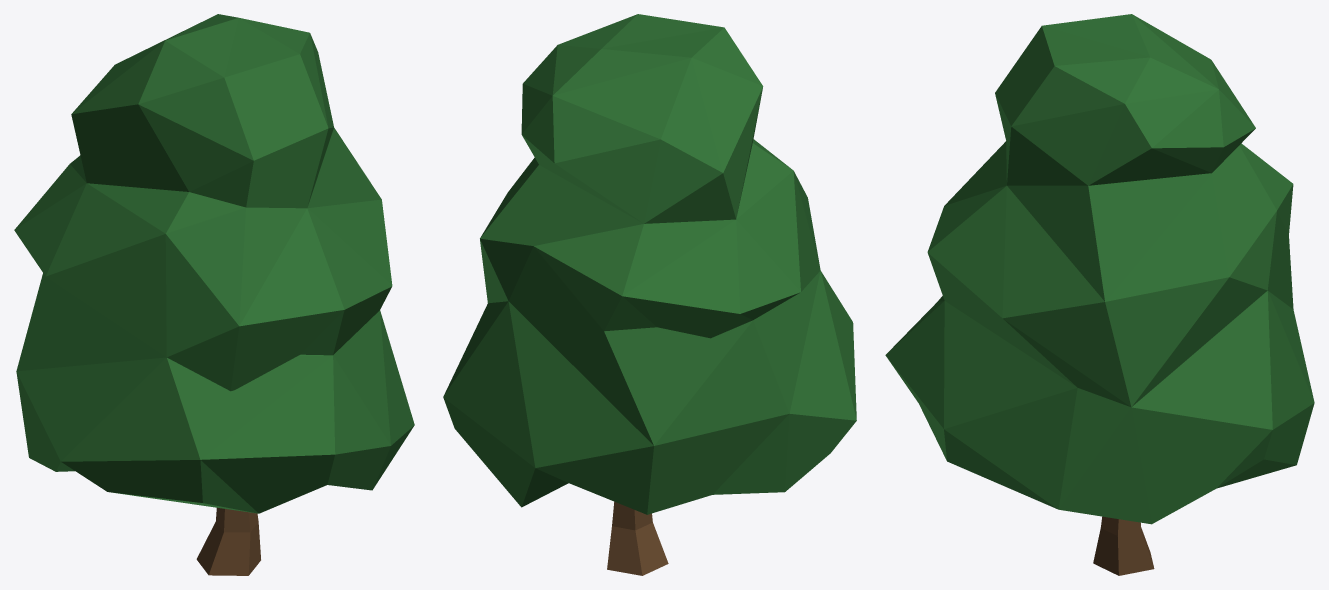
Rendered from bush-medium-high.glb.
3 views of the same model, side by side, from view 1: azimuth 30°, elevation 25°; view 2: azimuth 150°, elevation 25°; view 3: azimuth 270°, elevation 25° (orthographic). The views are drawn at different scales.
Visible parts, largest first — view 1: bush-medium-high; view 2: bush-medium-high; view 3: bush-medium-high.
Part boxes in pixels (x1,y1,x2,y2): bush-medium-high: [14, 14, 414, 575]; bush-medium-high: [443, 14, 856, 575]; bush-medium-high: [885, 14, 1314, 575].
Bounding box in the file's own units: 1.38 × 2.02 × 1.51.
